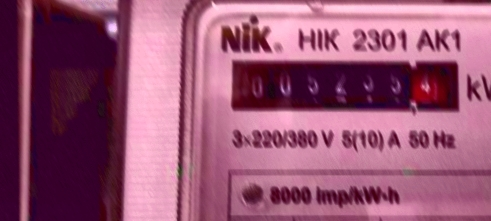0: (249, 73, 265, 99), (278, 70, 292, 95)
2: (333, 69, 347, 94)
3: (361, 66, 375, 91)
4: (418, 70, 433, 96)
5: (388, 67, 403, 94), (305, 69, 320, 95)
screen: (221, 49, 470, 121)
